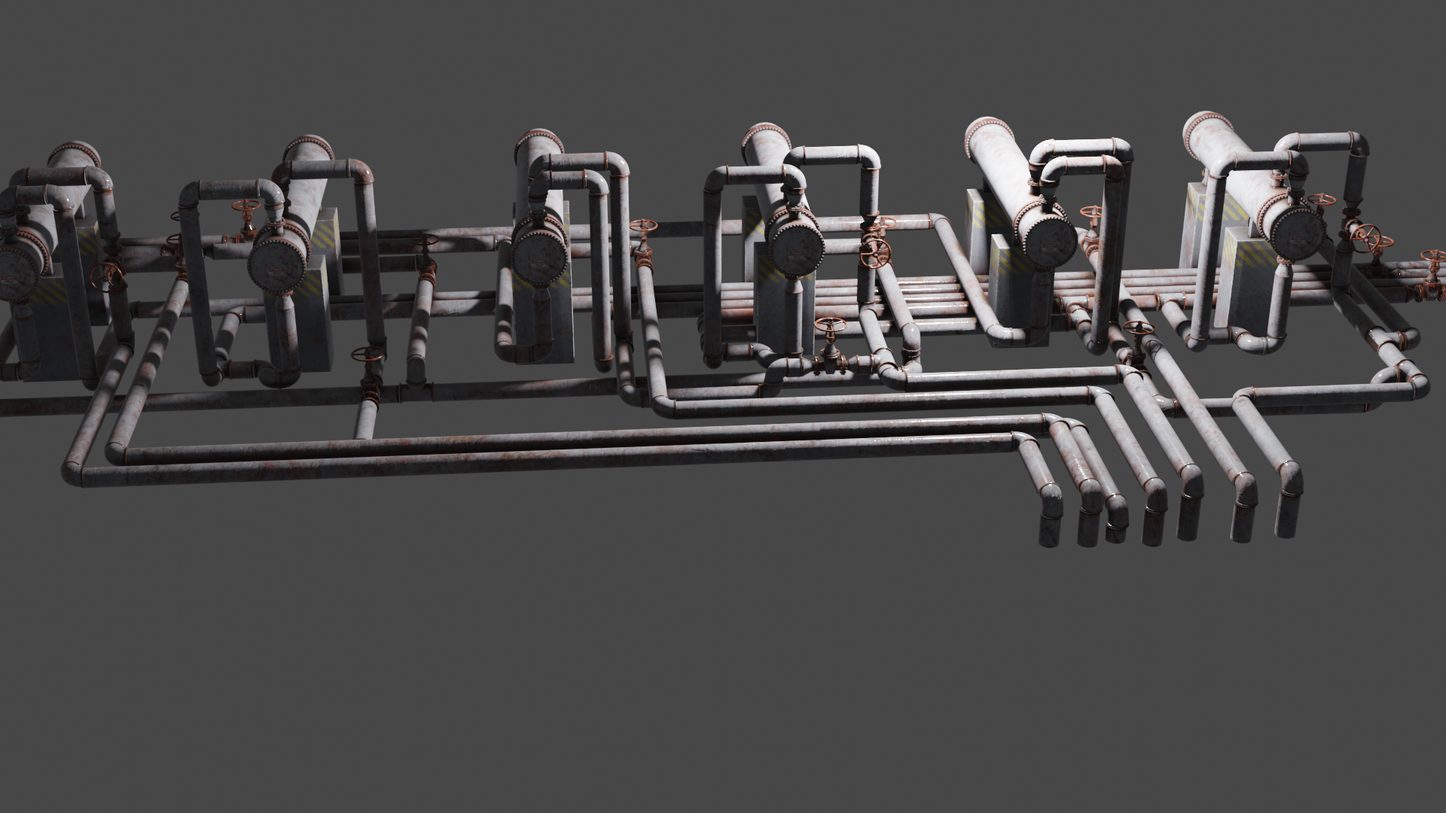HE_1: (2, 134, 105, 295)
HE_2: (250, 124, 334, 284)
HE_3: (507, 120, 568, 283)
HE_4: (741, 120, 825, 273)
HE_5: (963, 111, 1077, 267)
HE_6: (1179, 106, 1326, 256)
